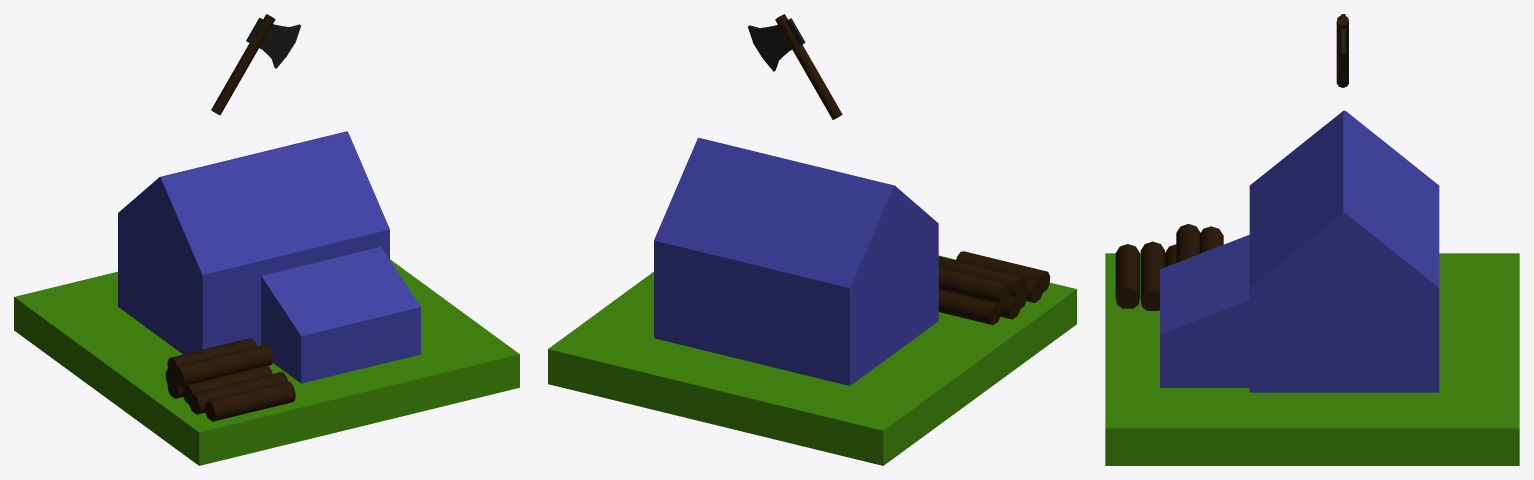
Rendered from Woodworker2.obj.
3 views of the same model, side by side, from view 1: azimuth 30°, elevation 25°; view 2: azimuth 150°, elevation 25°; view 3: azimuth 270°, elevation 25° (orthographic). The views are drawn at different scales.
Parts seen in each view (by area): view 1: Box691, Tilebase105, Cylinder025, Cylinder024, Cylinder017, Box692, Cylinder028, Cylinder019, Cylinder022; view 2: Box691, Tilebase105, Cylinder019, Cylinder020, Box692, Cylinder028, Cylinder025, Cylinder024; view 3: Box691, Tilebase105, Cylinder024, Cylinder017, Cylinder025, Cylinder028, Cylinder019.
Part boxes in pixels (<box>): Box691: <box>118,131,420,383</box>; Tilebase105: <box>14,259,519,465</box>; Cylinder025: <box>173,344,273,387</box>; Cylinder024: <box>204,381,295,421</box>; Cylinder017: <box>189,372,287,414</box>; Box692: <box>246,17,300,68</box>; Cylinder028: <box>211,14,275,115</box>; Cylinder019: <box>167,338,257,377</box>; Cylinder022: <box>182,365,272,404</box>; Box691: <box>654,138,938,385</box>; Tilebase105: <box>548,255,1076,465</box>; Cylinder019: <box>938,266,1010,305</box>; Cylinder020: <box>938,289,1000,325</box>; Box692: <box>748,18,805,71</box>; Cylinder028: <box>775,14,842,119</box>; Cylinder025: <box>938,256,1026,298</box>; Cylinder024: <box>956,251,1050,292</box>; Box691: <box>1160,110,1439,392</box>; Tilebase105: <box>1105,253,1519,465</box>; Cylinder024: <box>1115,244,1139,308</box>; Cylinder017: <box>1140,241,1164,310</box>; Cylinder025: <box>1176,224,1200,262</box>; Cylinder028: <box>1336,15,1348,87</box>; Cylinder019: <box>1200,226,1223,253</box>.
Bounding box in the file's own units: 10 × 9.86 × 10.
